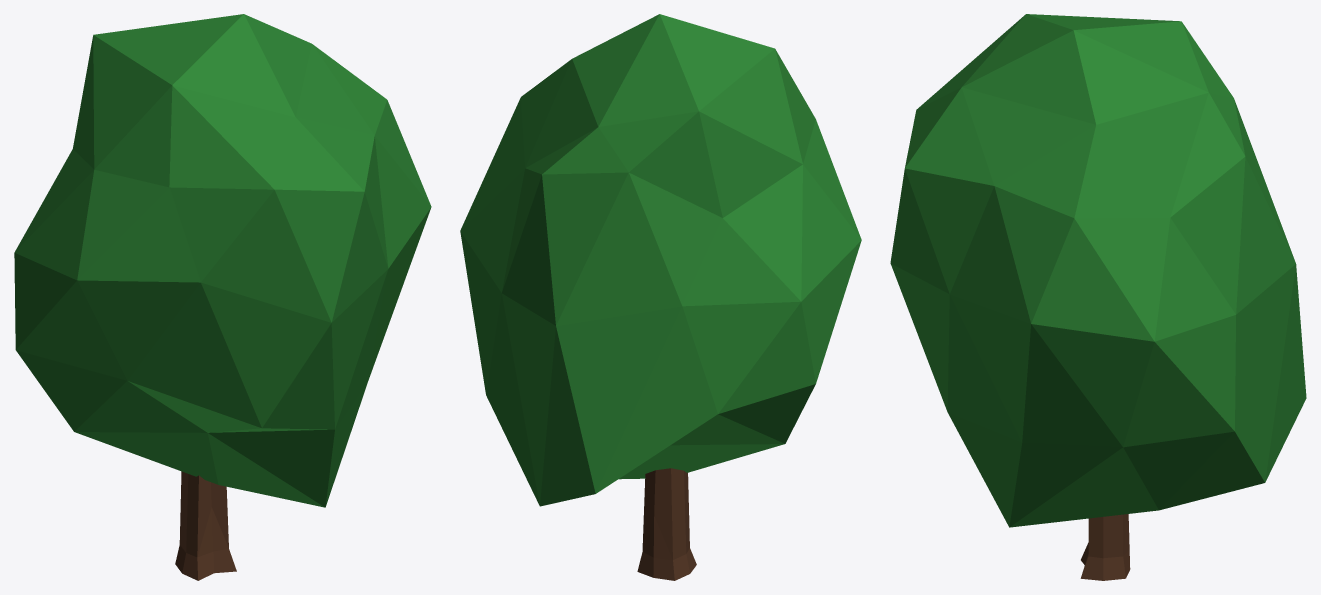
The model's file is Tree_62_Green.fbx.
3 renders of one model, left to right at view 1: azimuth 30°, elevation 25°; view 2: azimuth 150°, elevation 25°; view 3: azimuth 270°, elevation 25°, orthographic. The views are drawn at different scales.
Visible parts, largest first — view 1: Tree_62_Green_Part_1, Tree_62_Green_Part_2; view 2: Tree_62_Green_Part_1, Tree_62_Green_Part_2; view 3: Tree_62_Green_Part_1, Tree_62_Green_Part_2.
Part boxes in pixels (<box>): Tree_62_Green_Part_1: <box>14,14,431,507</box>; Tree_62_Green_Part_2: <box>175,471,236,580</box>; Tree_62_Green_Part_1: <box>460,14,861,506</box>; Tree_62_Green_Part_2: <box>637,468,696,580</box>; Tree_62_Green_Part_1: <box>890,14,1306,527</box>; Tree_62_Green_Part_2: <box>1080,514,1130,580</box>.
Bounding box in the file's own units: 533 × 788 × 540.
